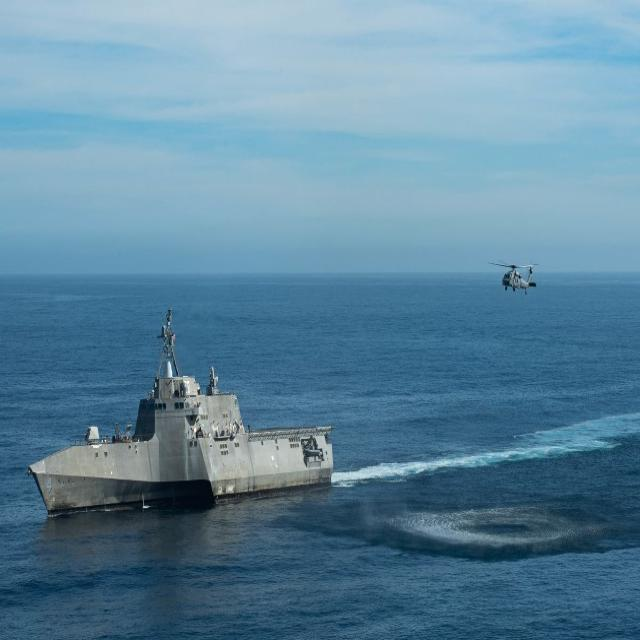ship2: (27, 312, 335, 516)
